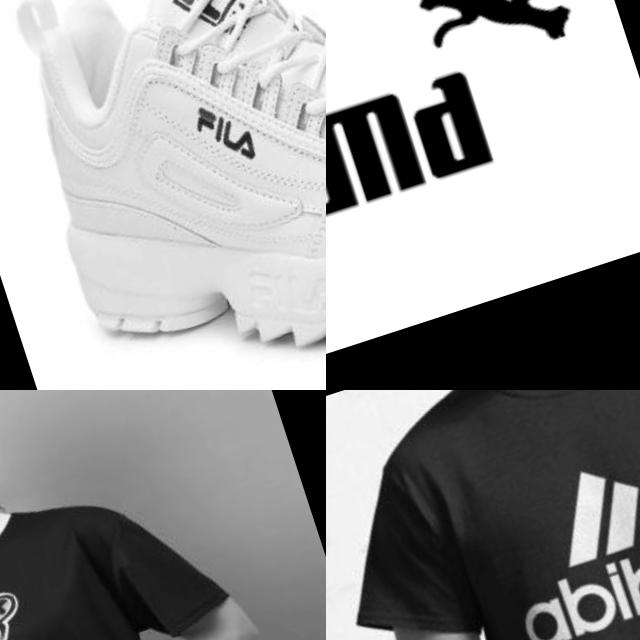ADIDAS_fake: (470, 415, 640, 640), (529, 435, 640, 581), (506, 521, 640, 640)
FILA_original: (180, 79, 276, 194)
PUMA_fake: (326, 0, 640, 390)
